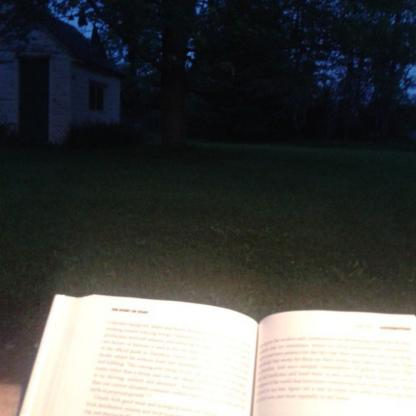book: (21, 314, 415, 416)
